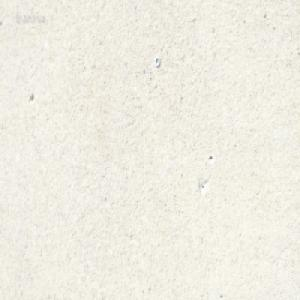Washer: (154, 57, 160, 68)
